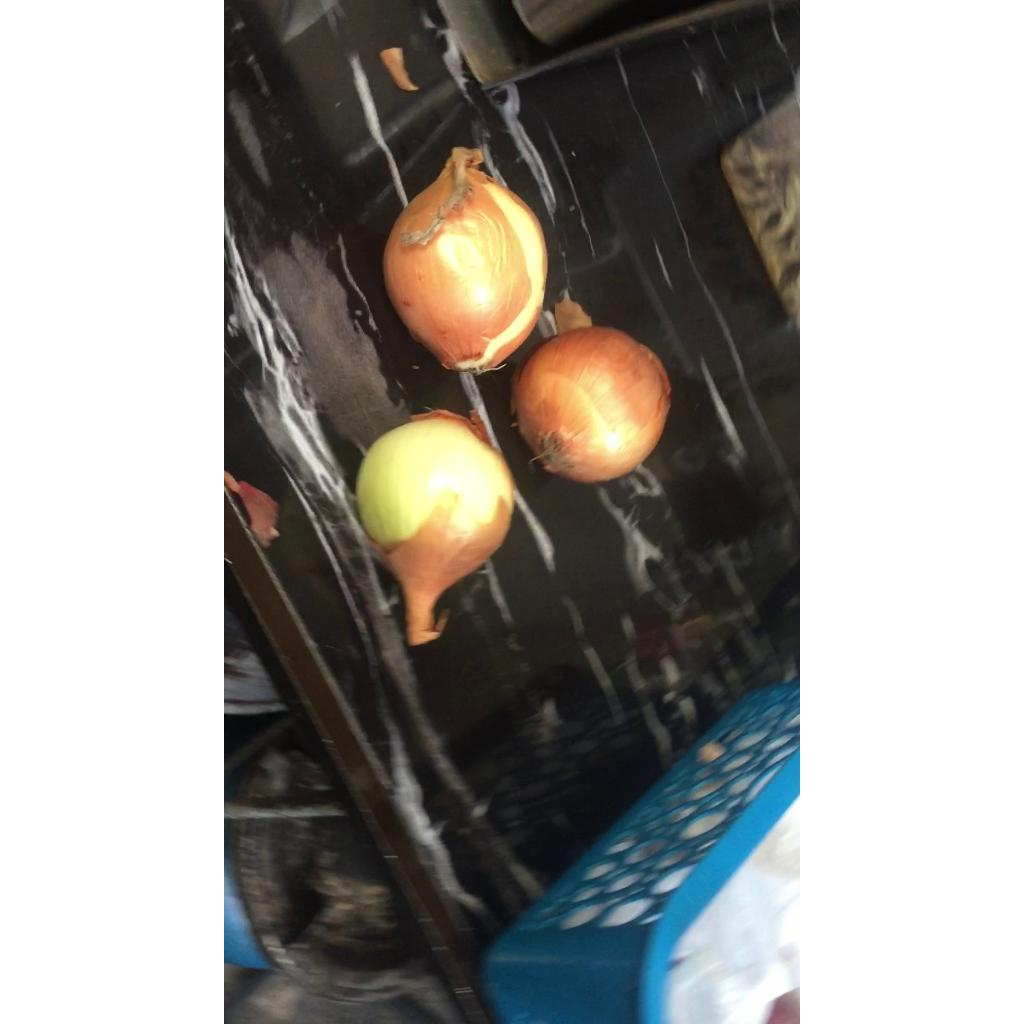Onion: (382, 146, 547, 373), (356, 410, 514, 646), (511, 326, 670, 483)
